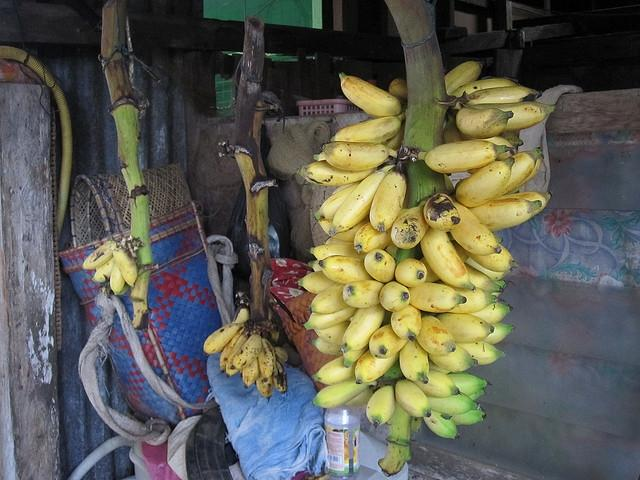banana: (329, 162, 398, 236), (420, 225, 476, 291), (418, 140, 515, 173), (449, 196, 502, 255), (370, 155, 410, 232), (455, 157, 515, 208), (339, 72, 404, 116), (490, 147, 542, 200), (468, 102, 556, 132), (330, 110, 406, 144), (466, 198, 542, 232), (297, 160, 386, 186), (314, 178, 366, 221), (340, 305, 386, 353), (418, 240, 469, 283), (435, 284, 506, 314), (320, 141, 390, 171), (390, 200, 430, 250), (436, 312, 496, 344), (456, 106, 514, 139), (462, 241, 523, 272), (406, 282, 467, 313), (318, 255, 378, 285), (312, 376, 368, 408), (492, 191, 553, 220), (354, 348, 402, 384), (504, 154, 545, 195), (416, 314, 456, 356), (462, 86, 542, 107), (406, 369, 459, 398), (230, 322, 262, 370), (423, 193, 462, 232), (317, 214, 370, 242), (369, 324, 410, 359), (428, 344, 479, 372), (312, 356, 359, 386), (395, 380, 432, 418), (308, 282, 351, 314), (444, 61, 484, 95), (450, 78, 518, 98), (203, 322, 245, 354), (400, 339, 429, 384), (455, 340, 507, 365), (304, 306, 358, 330), (427, 392, 481, 416), (366, 385, 396, 428), (342, 280, 385, 308), (391, 304, 422, 342), (226, 330, 250, 378), (422, 410, 460, 440), (82, 241, 120, 270), (306, 244, 369, 261), (112, 248, 138, 289), (468, 302, 514, 325), (394, 258, 428, 288), (447, 374, 493, 396), (313, 320, 351, 346), (380, 281, 410, 312), (258, 339, 276, 382), (484, 322, 516, 345), (92, 256, 116, 283), (446, 409, 486, 425), (344, 343, 369, 368), (110, 260, 126, 296), (242, 358, 260, 389), (272, 358, 286, 394), (498, 130, 524, 146), (390, 77, 408, 98), (469, 390, 486, 400)
